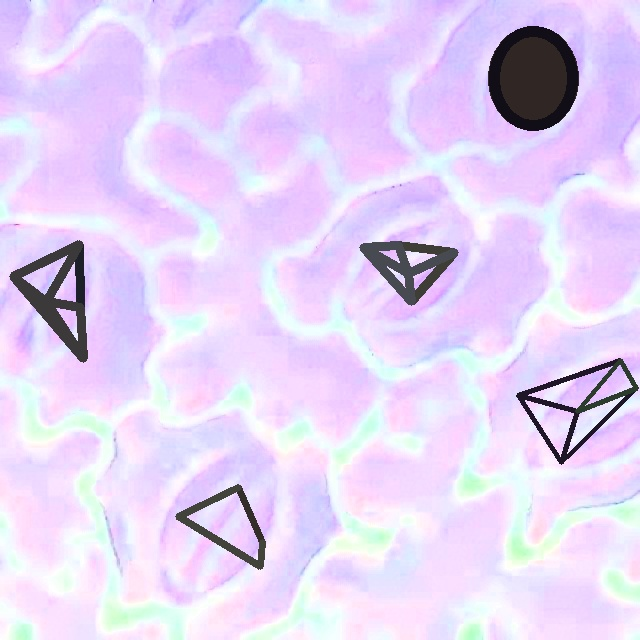open: (516, 358, 638, 464), (488, 26, 578, 130), (9, 240, 84, 362), (175, 484, 265, 569), (359, 241, 458, 305)
